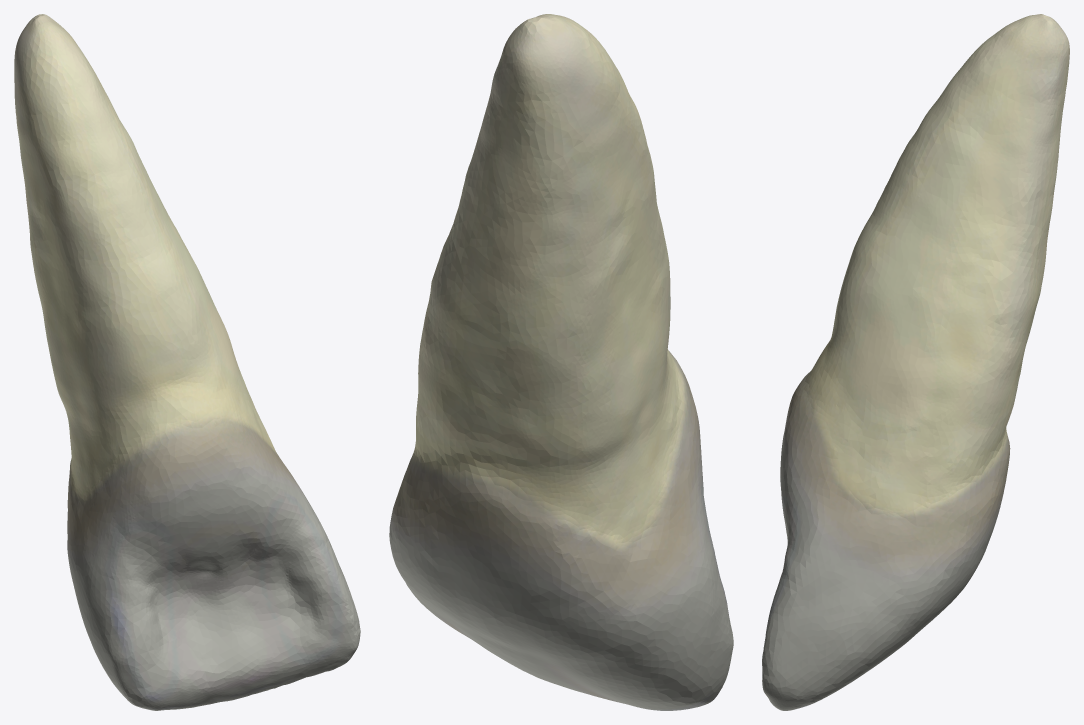
The picture shows the model from 3 angles, left to right: view 1: azimuth 30°, elevation 25°; view 2: azimuth 150°, elevation 25°; view 3: azimuth 270°, elevation 25°; orthographic projection. The views are drawn at different scales.
Visible parts, largest first — view 1: 3MFMeshParent_0; view 2: 3MFMeshParent_0; view 3: 3MFMeshParent_0.
Part boxes in pixels (left/top/right/bottom): 3MFMeshParent_0: left=14, top=14, right=360, bottom=710; 3MFMeshParent_0: left=389, top=14, right=733, bottom=710; 3MFMeshParent_0: left=762, top=14, right=1069, bottom=710.
Size of the model in its own units: 0.1842 by 0.4627 by 0.2048.
Materials: 1 (1 with a texture image).
